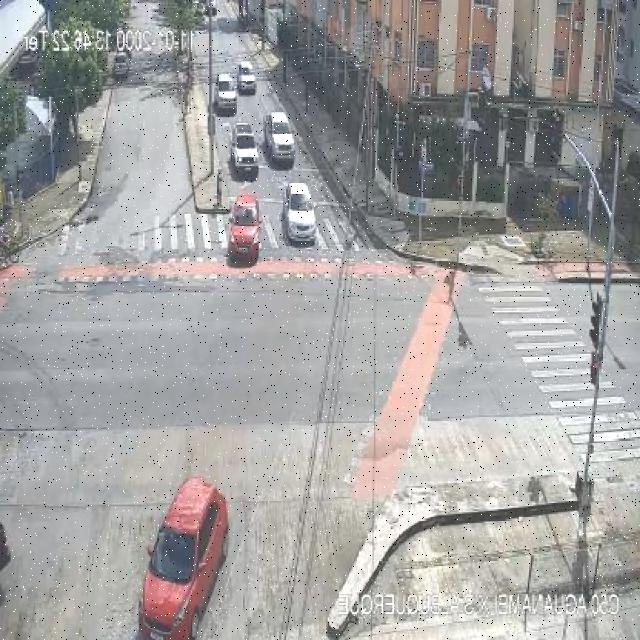Car: (135, 478, 227, 638), (227, 194, 263, 264), (283, 182, 317, 243), (231, 122, 259, 172), (214, 73, 237, 112), (237, 62, 256, 94), (112, 52, 130, 78)
Truck: (264, 111, 296, 164)
